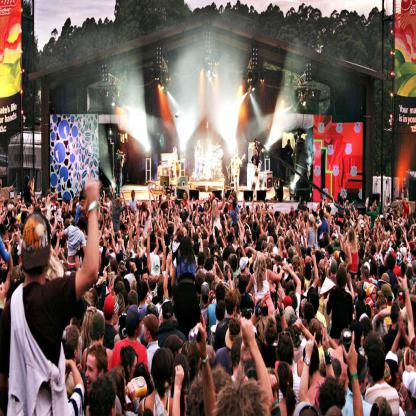face: (86, 357, 101, 393), (128, 356, 138, 384), (136, 318, 144, 334), (144, 324, 151, 342), (396, 359, 403, 375), (380, 305, 387, 320), (359, 330, 365, 347), (113, 308, 119, 325), (410, 351, 416, 367), (143, 275, 149, 286), (373, 289, 378, 302), (371, 304, 376, 316), (109, 262, 113, 272), (215, 253, 219, 263), (81, 200, 85, 209), (361, 273, 365, 281), (13, 230, 17, 237), (125, 230, 128, 236), (132, 193, 135, 199), (175, 148, 178, 154), (107, 197, 110, 202), (161, 197, 164, 202), (184, 194, 187, 199), (255, 150, 258, 155), (168, 195, 170, 200), (236, 154, 239, 157), (289, 142, 291, 146)
